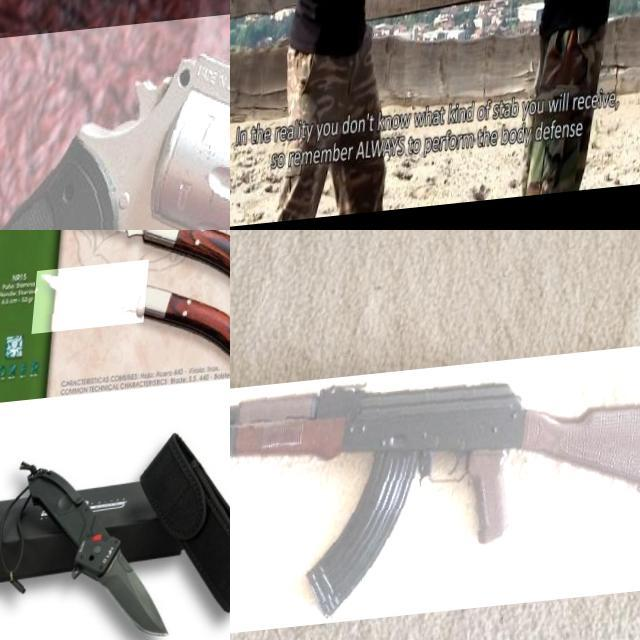-: (93, 540, 188, 640), (36, 263, 152, 335), (26, 230, 164, 268), (25, 230, 158, 268), (365, 0, 423, 59)
gun-knife-thesis - v11 Yolov5 augmented: (230, 354, 640, 640), (0, 0, 230, 230)
